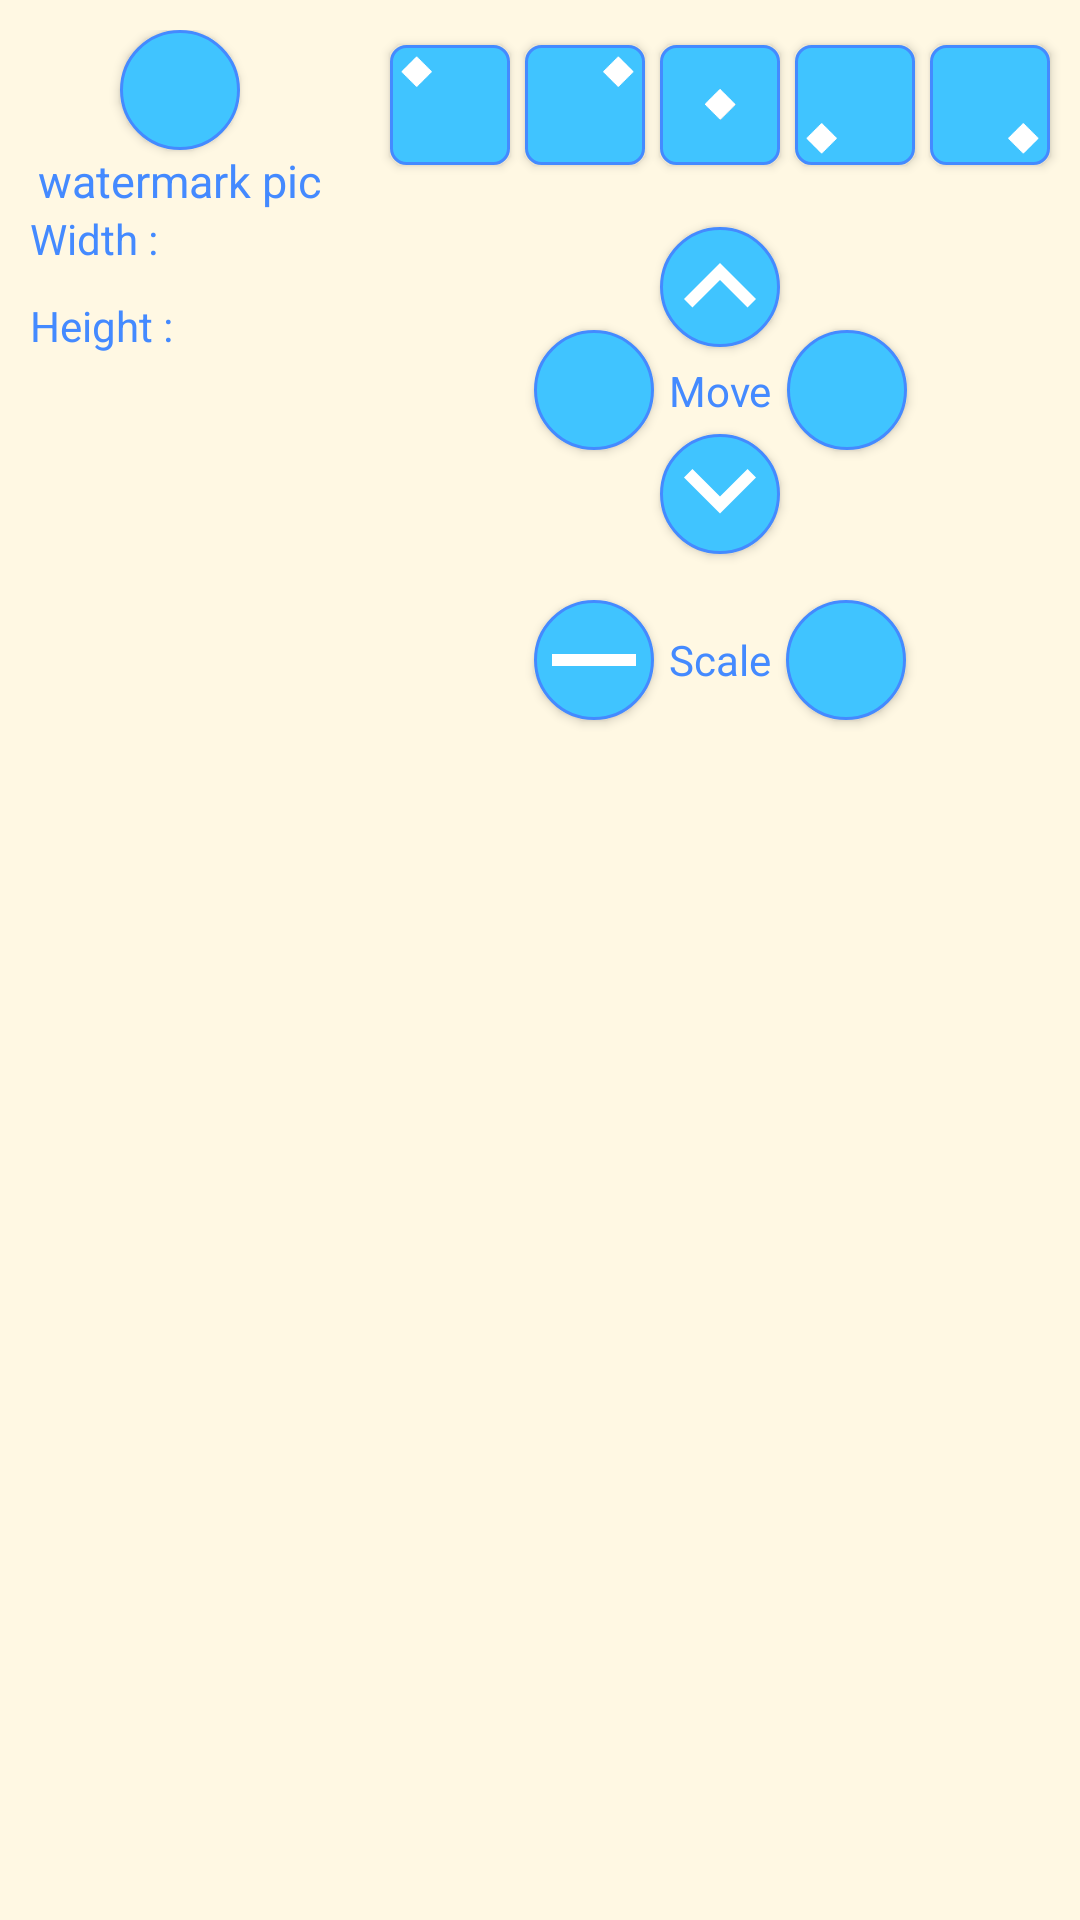

Point at icon controls on the screen. Image size 1080w x 1920h, points as (x=x, y=y).
bottom left: (x=855, y=105)
bottom right: (x=990, y=105)
center: (x=720, y=105)
decrease: (x=594, y=660)
top left: (x=450, y=105)
top right: (x=585, y=105)
